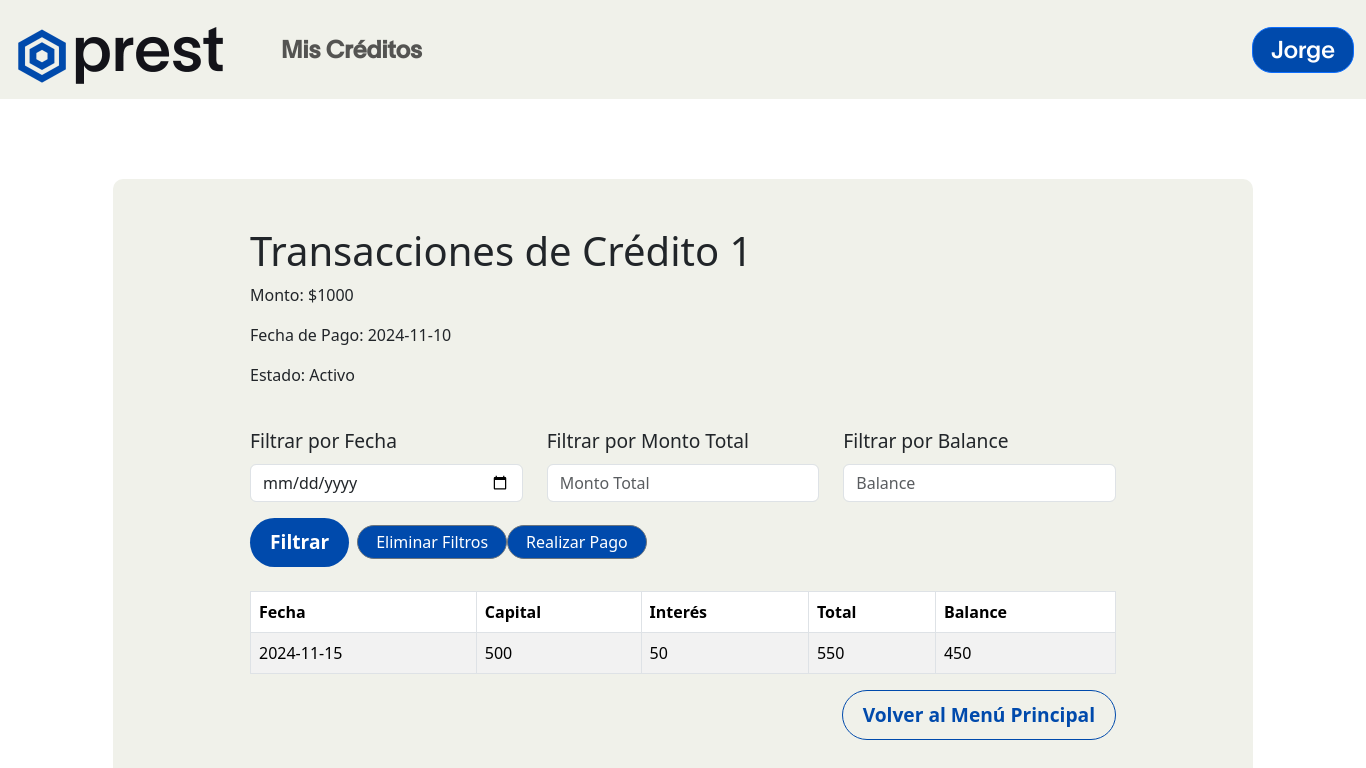
Test: Componente VisualizarTransacciones › 7. Limpia filtros y muestra todas las transacciones
Expected: the heading "Transacciones de Crédito 1" is shown, [250,223,752,278]
In the date field labelled "Filtrar por Fecha": (386, 483) [250,464,523,502], type "2023-01-01"
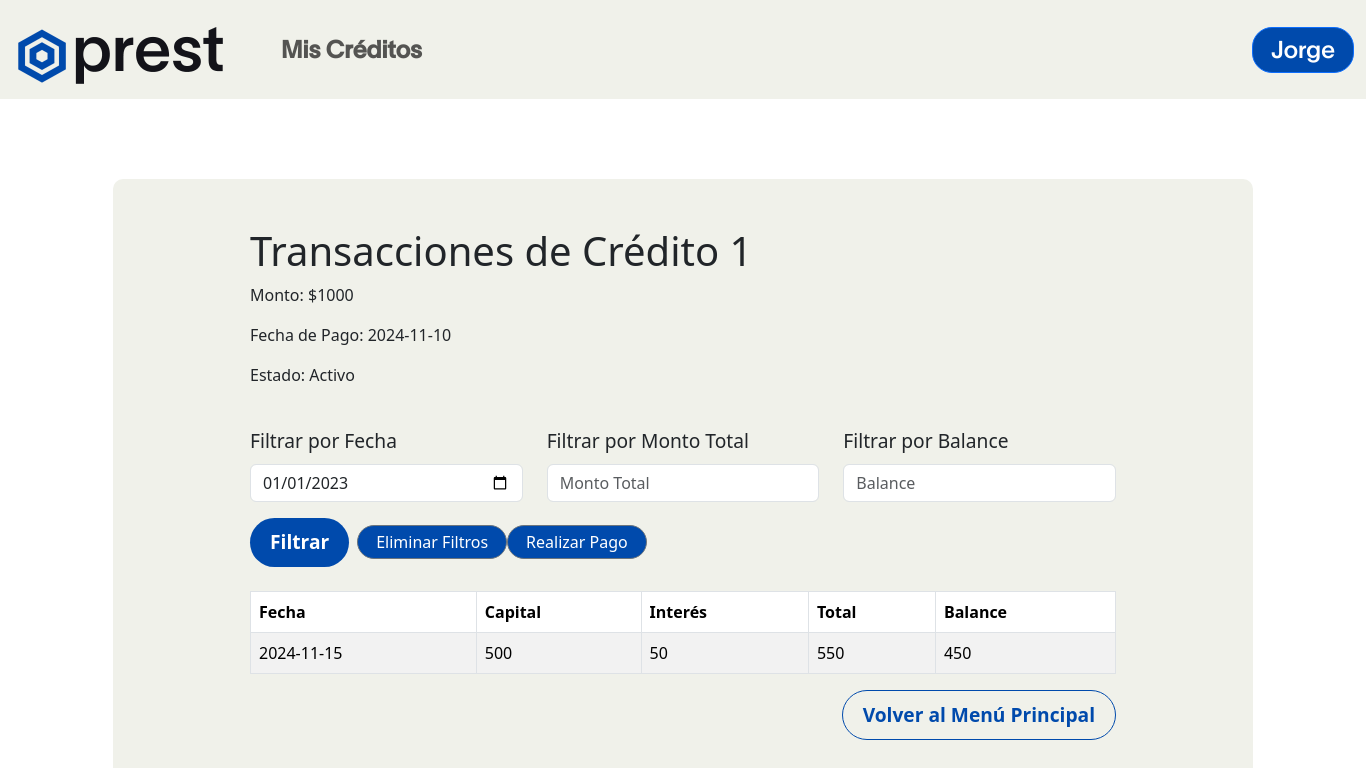
Click the button "Filtrar": (300, 542) [250,518,349,567]
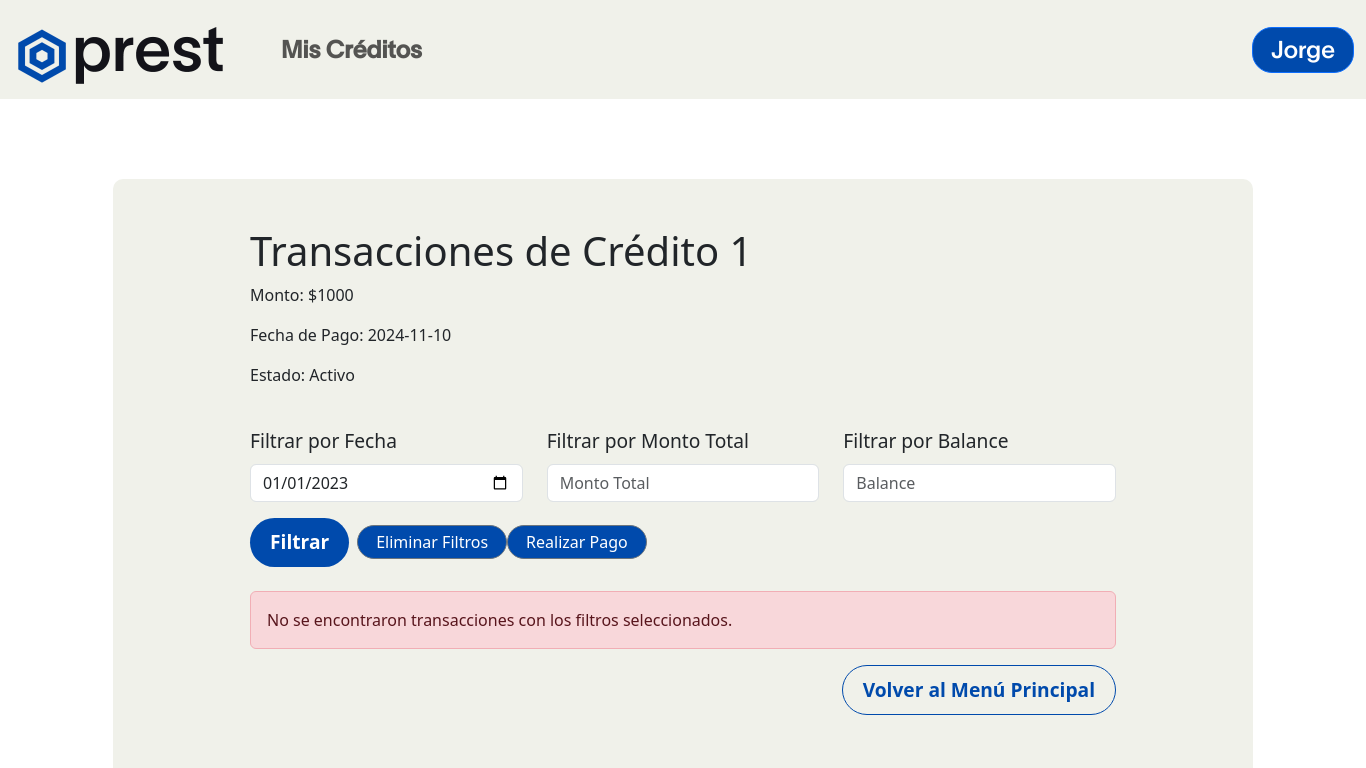
Result: the text "No se encontraron transacciones con los filtros seleccionados." is shown at [250,591,1116,649]
Click the button "Eliminar Filtros": (432, 542) [357,525,507,559]
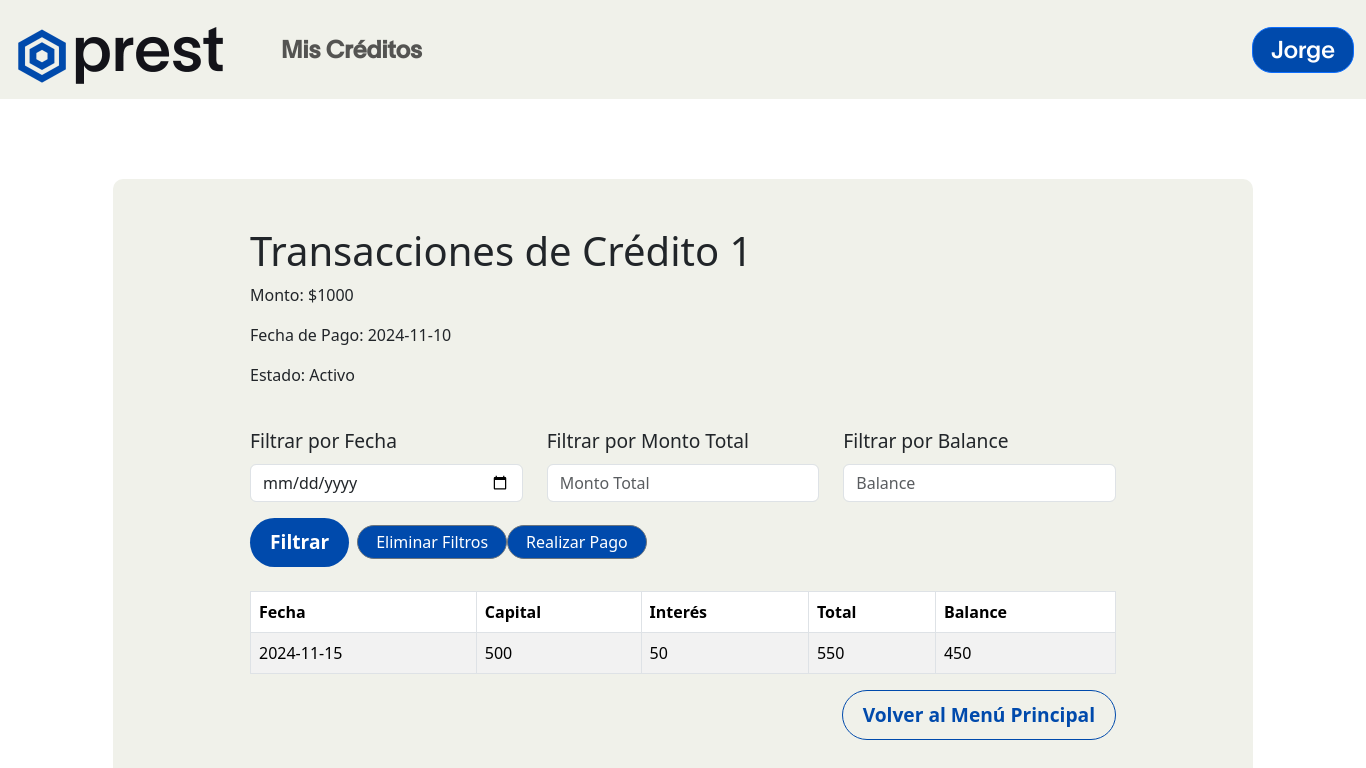
Result: the text "2024-11-15" is shown at [250,632,476,673]
